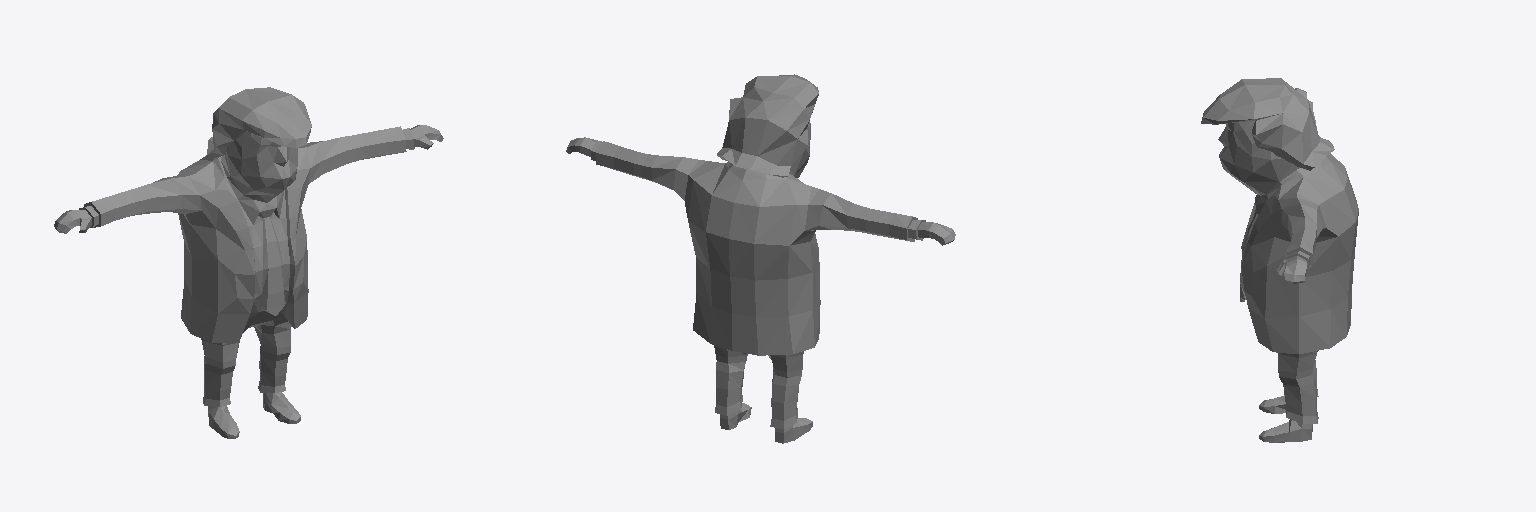
The model's file is trump.obj.
The picture shows the model from 3 angles: view 1: azimuth 30°, elevation 25°; view 2: azimuth 150°, elevation 25°; view 3: azimuth 270°, elevation 25°; orthographic projection.
Visible parts, largest first — view 1: trump_lp_model.001; view 2: trump_lp_model.001; view 3: trump_lp_model.001.
Part boxes in pixels (x1,y1,x2,y2): trump_lp_model.001: (54,87,443,438); trump_lp_model.001: (566,74,955,443); trump_lp_model.001: (1201,78,1358,442).
Bounding box in the file's own units: 1.83 × 1.53 × 0.6496.